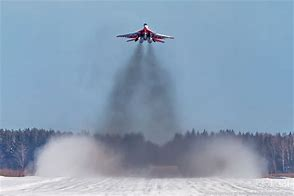smoke: (118, 42, 177, 123)
